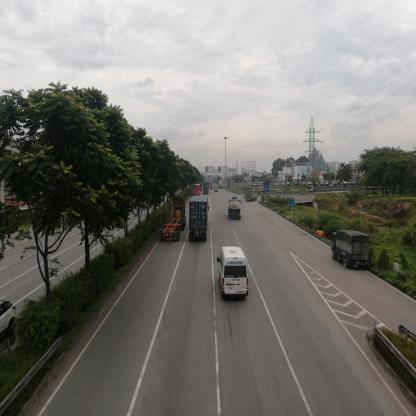bus: (194, 185, 200, 196)
car: (219, 245, 249, 302)
container: (165, 196, 187, 243), (204, 183, 210, 195)
truck: (334, 229, 371, 272), (229, 198, 244, 221), (244, 190, 260, 202)
